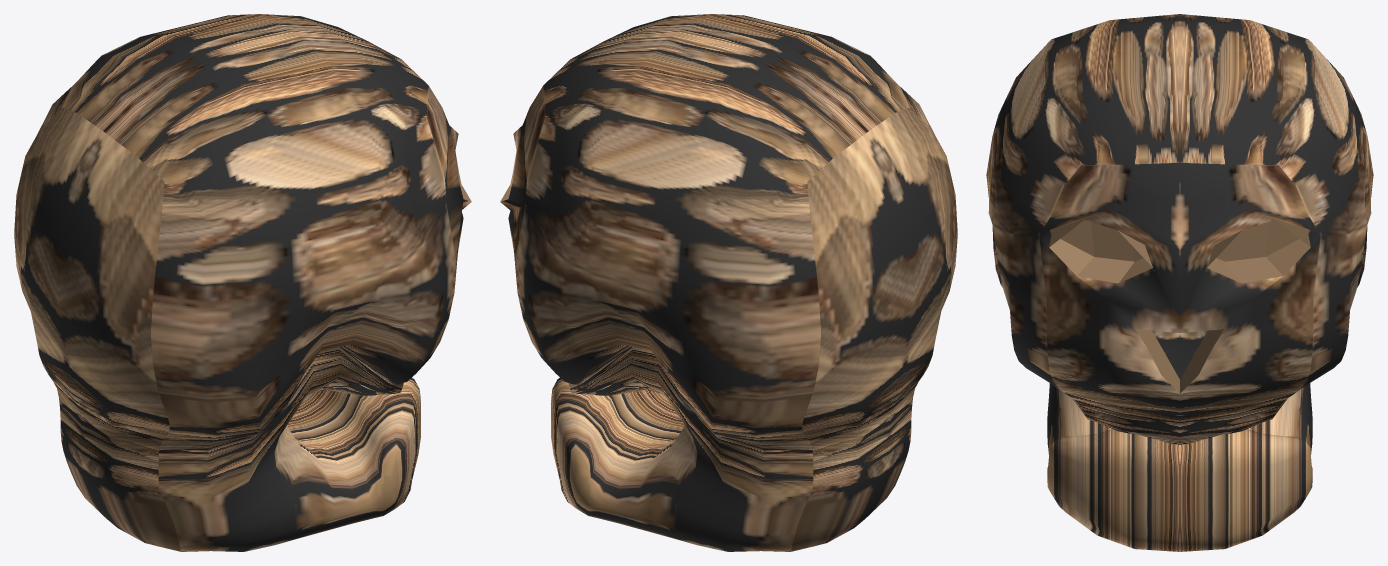
Rendered from SMSKULL_V001.fbx.
3 views of the same model, side by side, from view 1: azimuth 30°, elevation 25°; view 2: azimuth 150°, elevation 25°; view 3: azimuth 270°, elevation 25° (orthographic). The views are drawn at different scales.
Parts seen in each view (by area): view 1: Cube.004; view 2: Cube.004; view 3: Cube.004.
Part boxes in pixels (x1=…): Cube.004: x1=14, y1=14, x2=471, y2=551; Cube.004: x1=500, y1=14, x2=957, y2=551; Cube.004: x1=986, y1=14, x2=1373, y2=551.
Bounding box in the file's own units: 417 × 481 × 369.
Materials: 1 (1 with a texture image).
